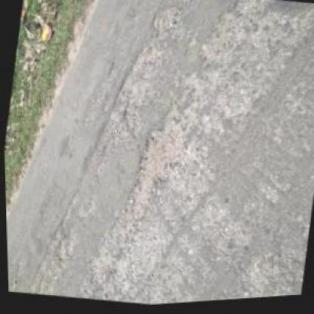Hueco: (121, 116, 184, 230), (105, 38, 161, 134), (150, 5, 183, 39)
